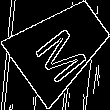M_NE: (29, 13, 93, 81)
